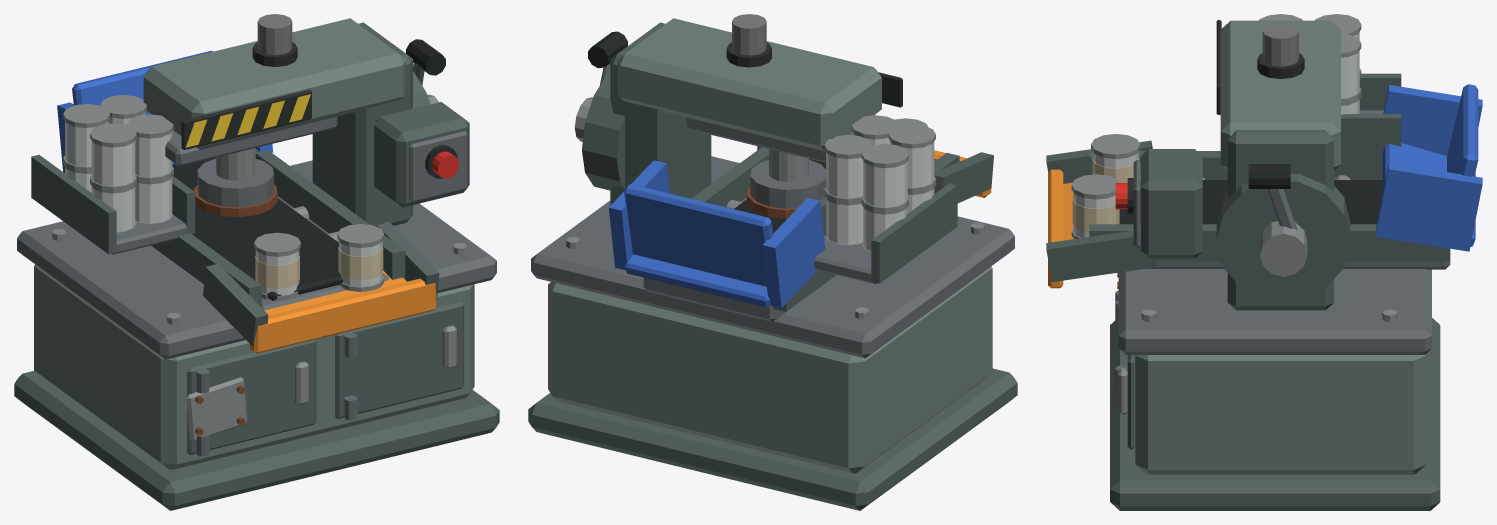
The model's file is canner.glb.
3 renders of one model, left to right at view 1: azimuth 30°, elevation 25°; view 2: azimuth 150°, elevation 25°; view 3: azimuth 270°, elevation 25°, orthographic. The views are drawn at different scales.
Parts seen in each view (by area): view 1: canner, Lamp; view 2: canner, Lamp; view 3: canner, Lamp.
Part boxes in pixels (x1,y1,x2,y2): canner: (14,18,499,510); Lamp: (257,14,292,55); canner: (528,18,1017,510); Lamp: (732,14,766,55); canner: (1046,14,1482,510); Lamp: (1262,23,1298,66).
Bounding box in the file's own units: 1.51 × 1.61 × 1.56.
